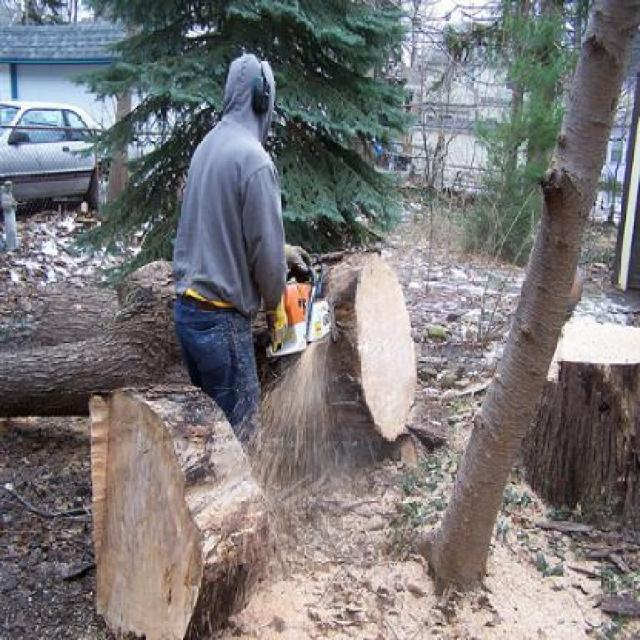Chainsaw: (256, 250, 341, 358)
